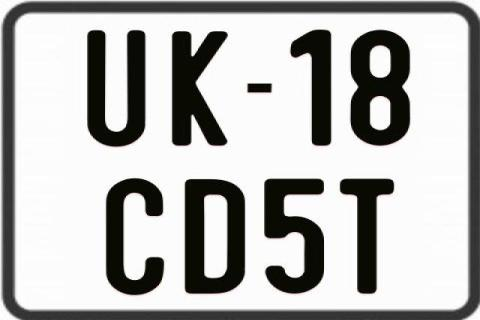0: (347, 27, 413, 144), (261, 176, 325, 291), (287, 28, 330, 148)
C: (106, 178, 170, 296)
D: (184, 177, 248, 291)
K: (171, 31, 228, 146)
T: (340, 179, 399, 297)
U: (86, 28, 147, 146)
